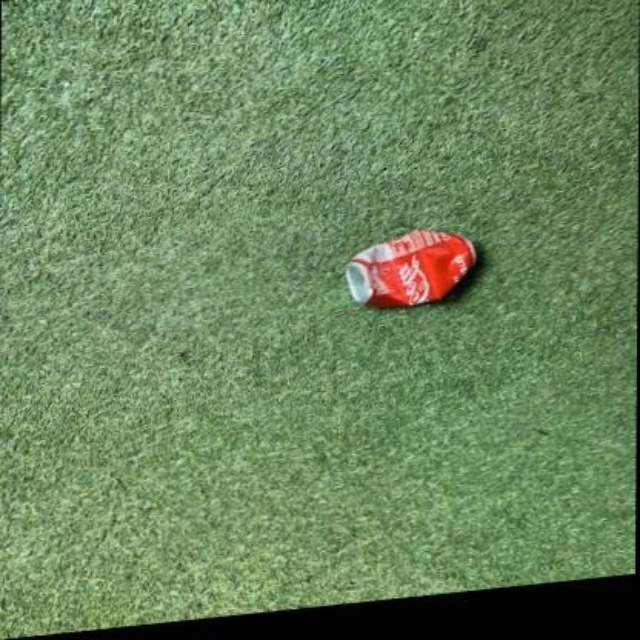trash: (345, 229, 475, 306)
